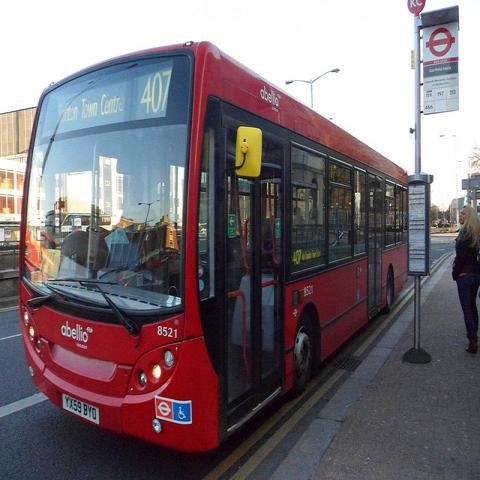bus: (17, 42, 409, 454)
